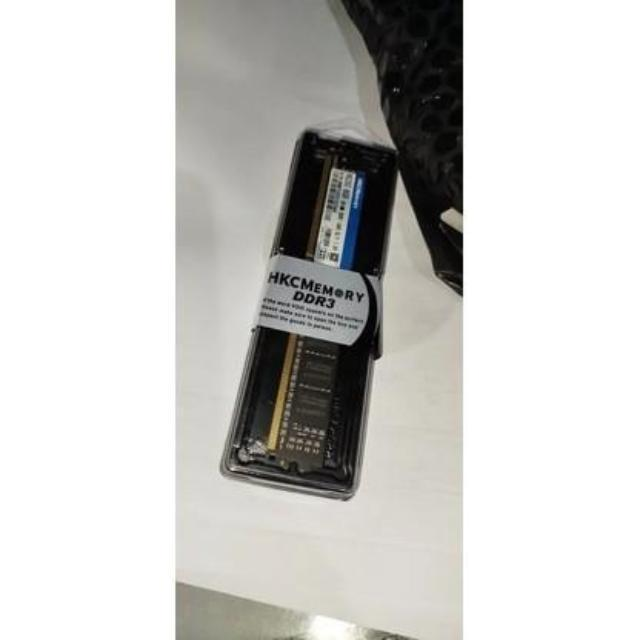RAM: (223, 121, 408, 521)
